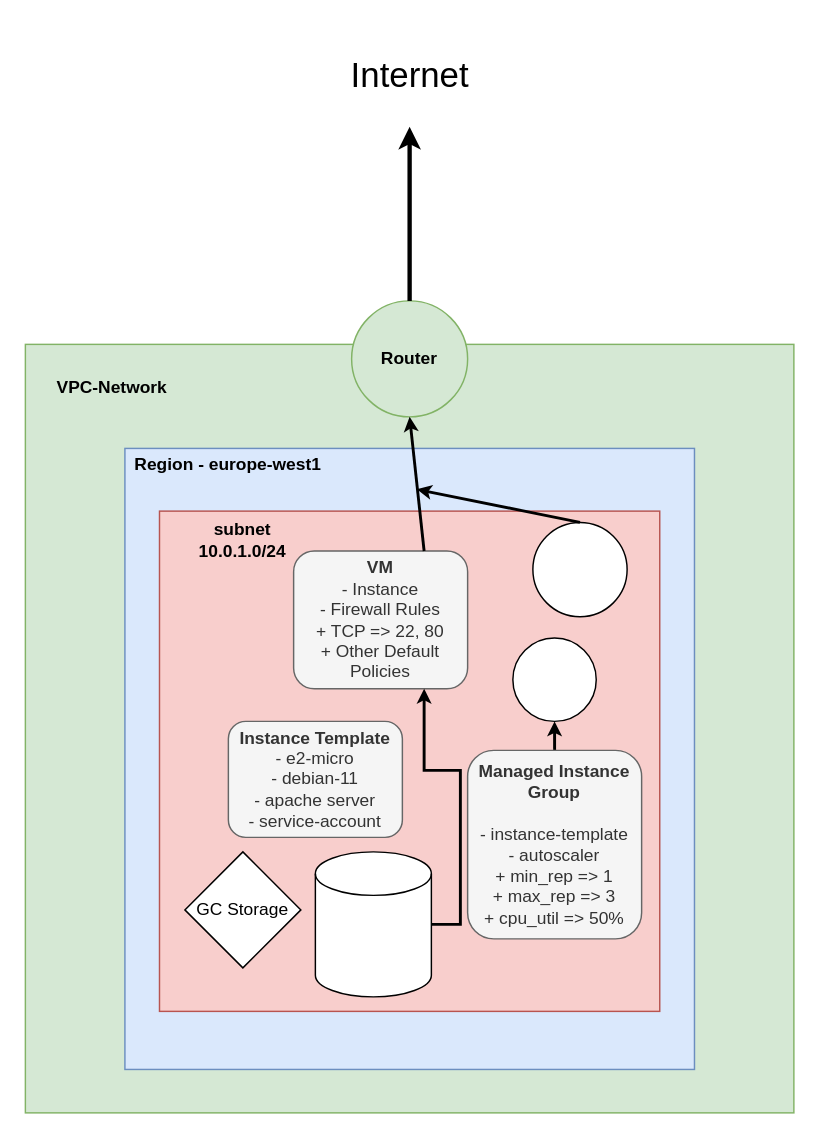
This 819x1138 diagram has some shape labels left out. Each missing label, with the centre of its shape:
"Cloud SQL PostgreSQL" belongs at [372,923].
"Load Balancer" belongs at [553,679].
"NAT Gateway" belongs at [579,569].
